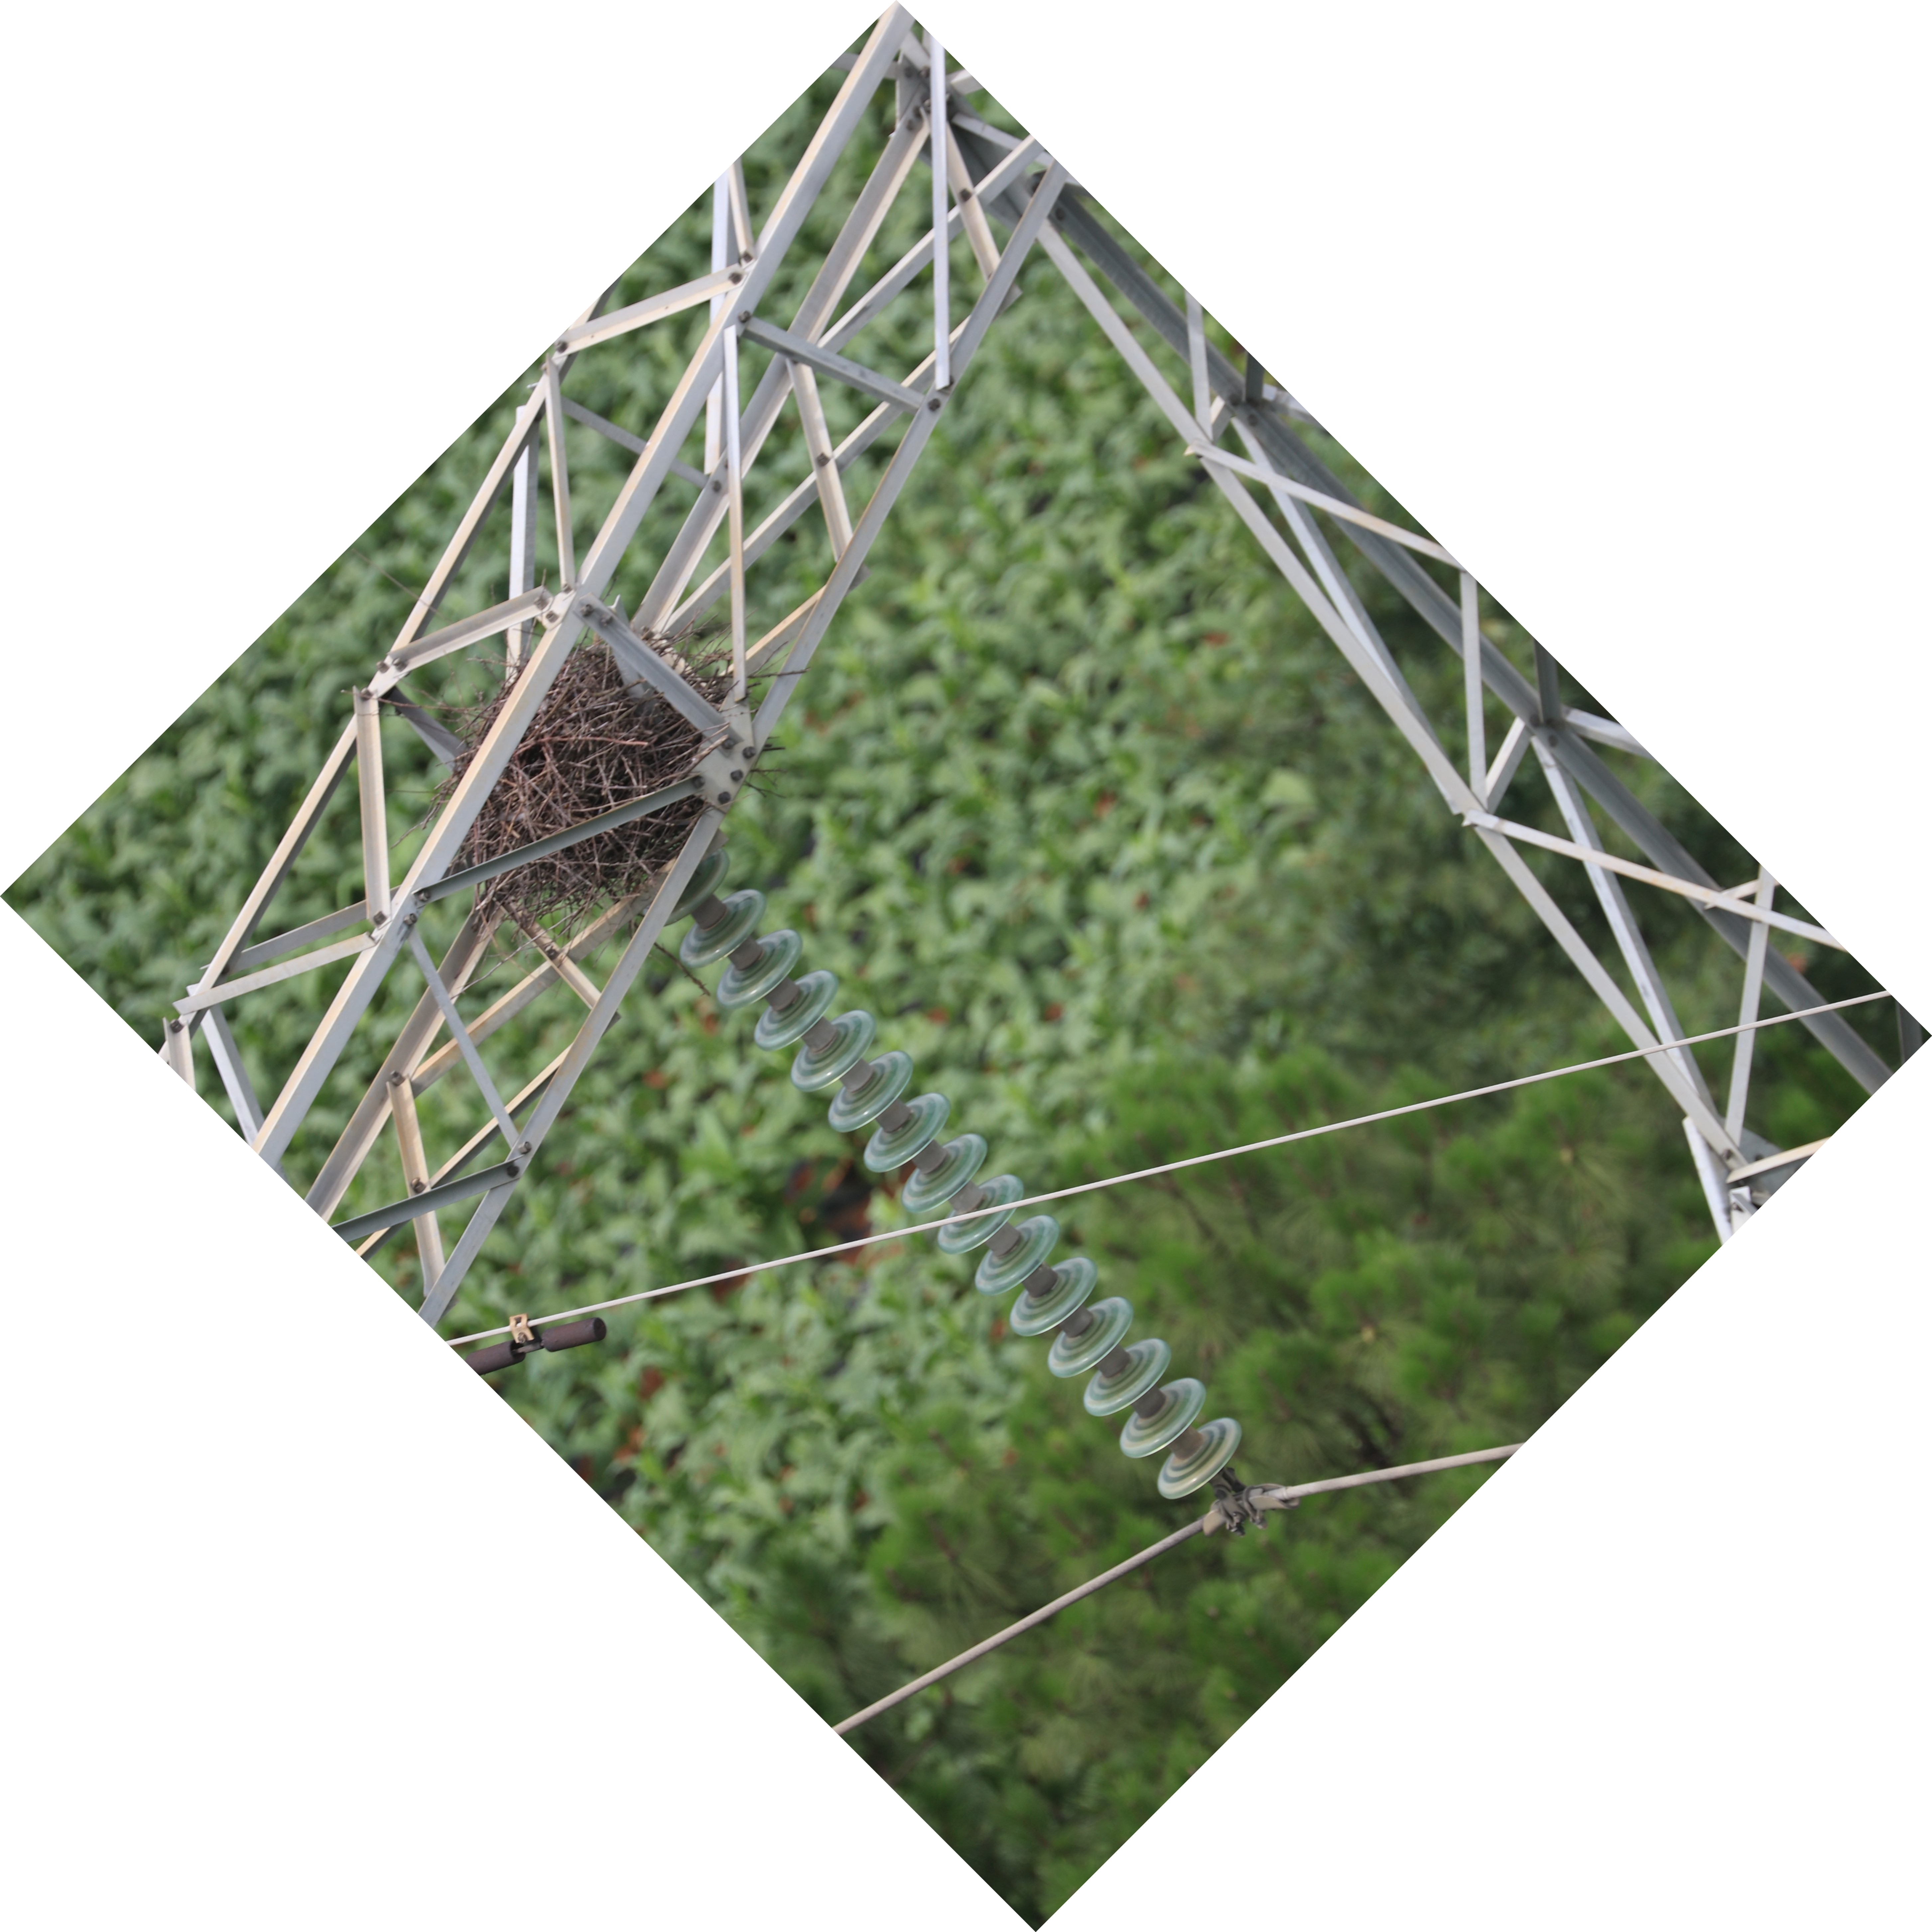niaowo: (387, 617, 764, 938)
